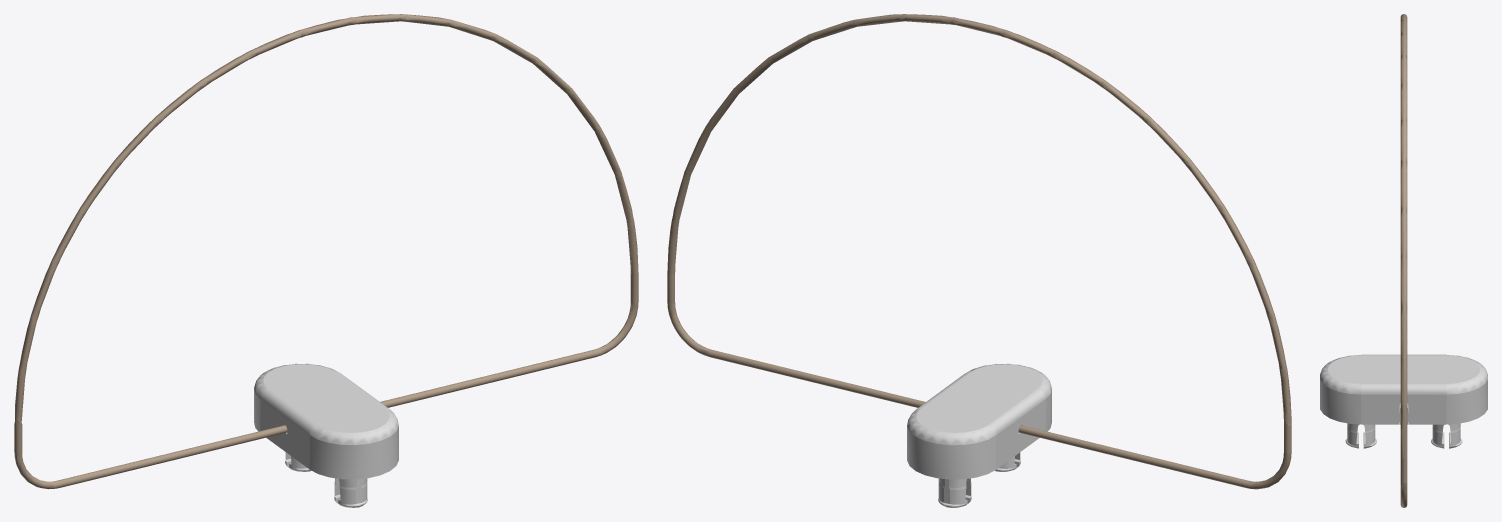
Rendered from ant-rear-antenna-228-2500-321-354.glb.
3 views of the same model, side by side, from view 1: azimuth 30°, elevation 25°; view 2: azimuth 150°, elevation 25°; view 3: azimuth 270°, elevation 25° (orthographic). The views are drawn at different scales.
Size of the model in its own units: 93 by 65.7 by 24.97.
